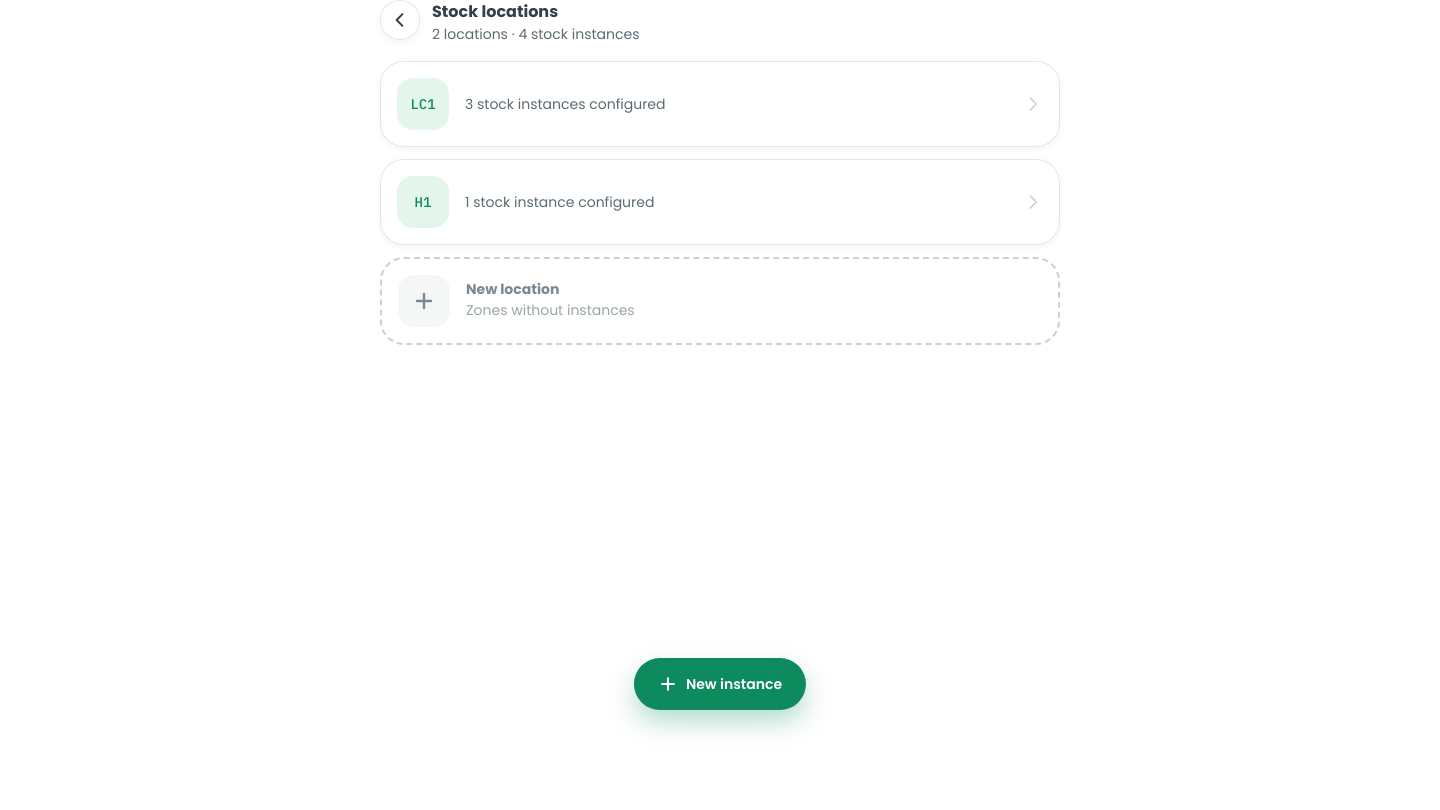
Scenario: StockWizardStep1View (screen 08) › C8: an existing instance can be deleted from the edit form's action sheet
Click the button with test id "stock-location-row" that starts with "LC1".
click(423, 104)  # box [380,61,1060,147]
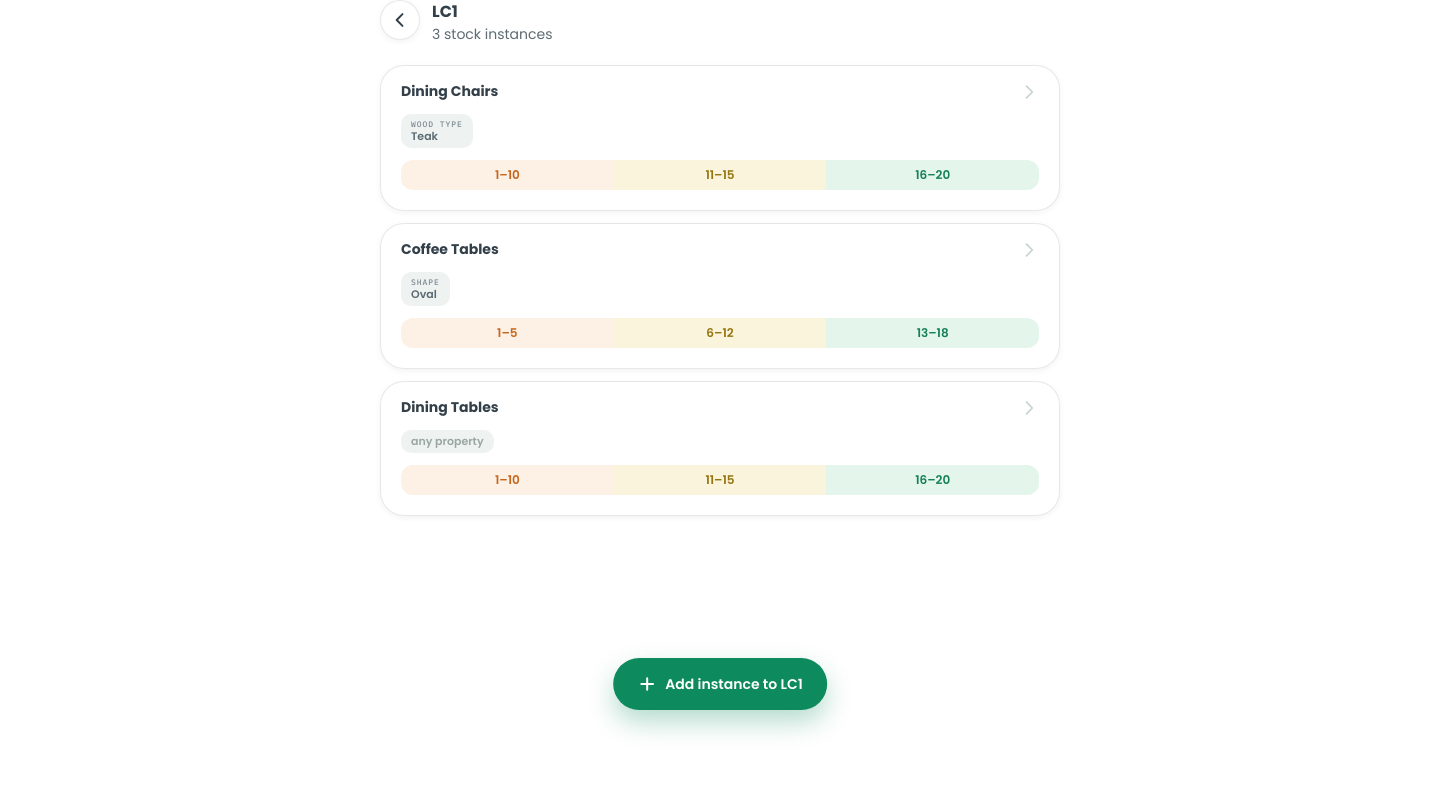
Click the button "Coffee Tables Shape Oval 1–5 6–12 13–18".
click(450, 249)  # box [381,224,1059,368]
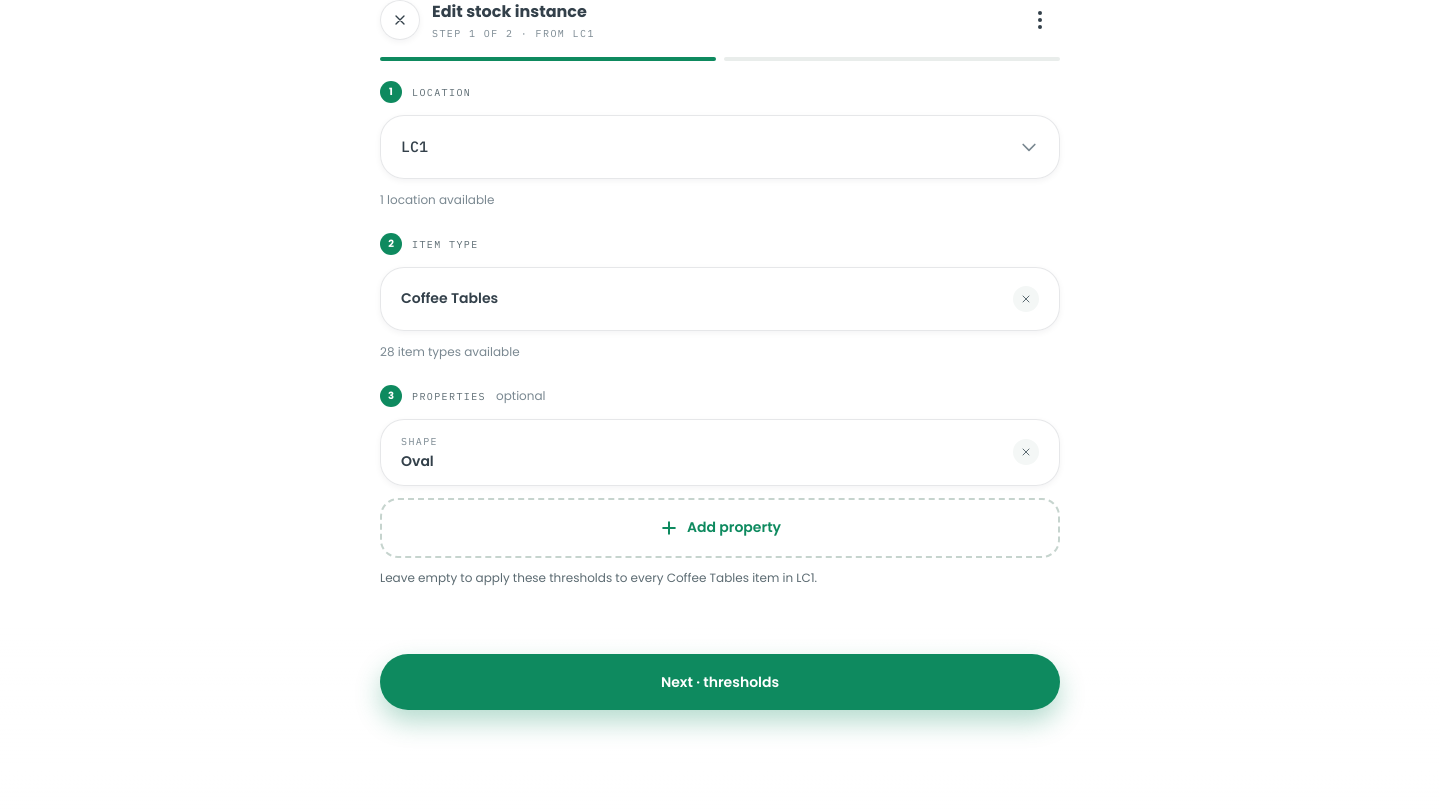
expect the heading "Edit stock instance" is shown: met, box [432,2,595,22]
Click the button named "More actions".
click(1040, 20)  # box [1020,0,1060,40]
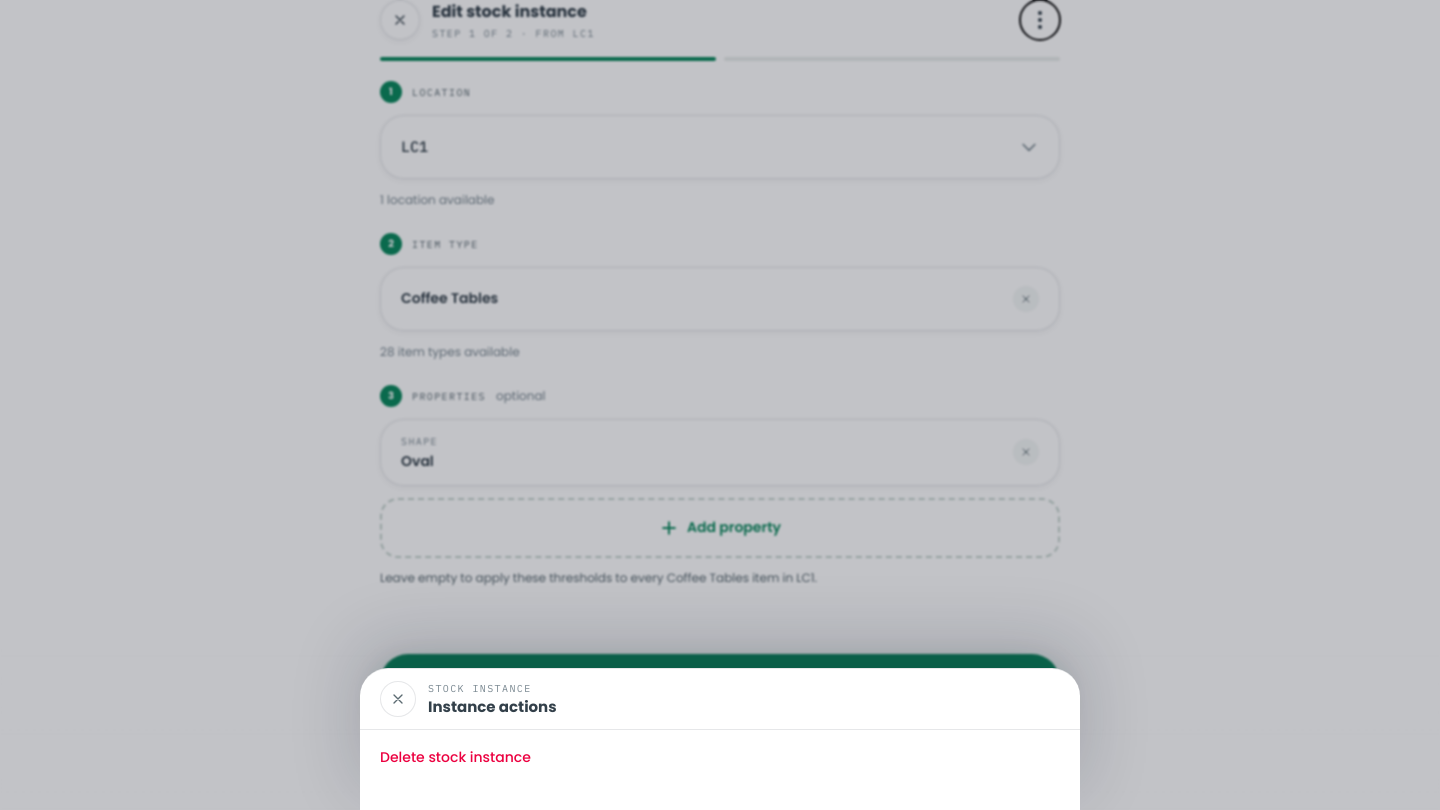
Click the button "Delete stock instance".
click(455, 757)  # box [380,730,1060,786]
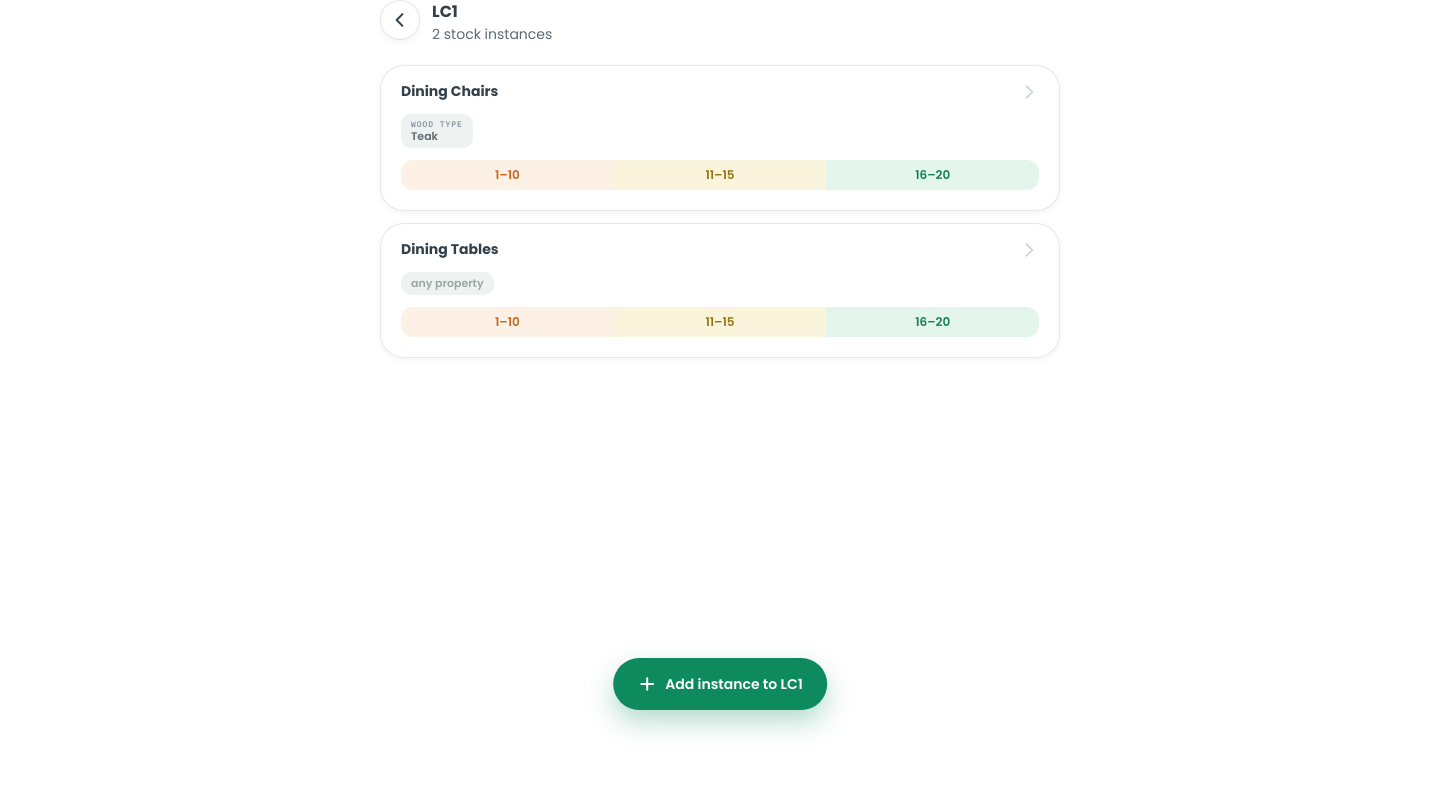
expect the heading "Edit stock instance" is gone: met
expect the number of elements with test id "stock-instance-card" is 2: met, box [380,65,1060,211]; [380,223,1060,358]
